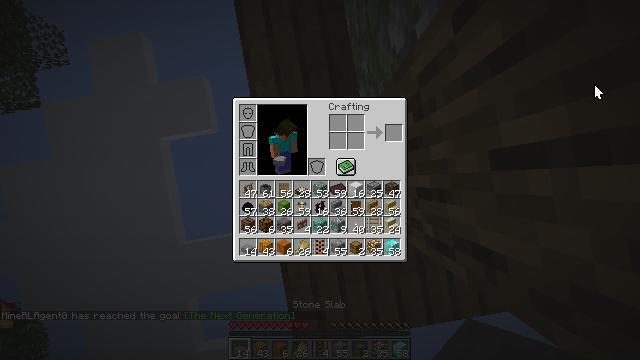cursor: (594, 84, 604, 100)
